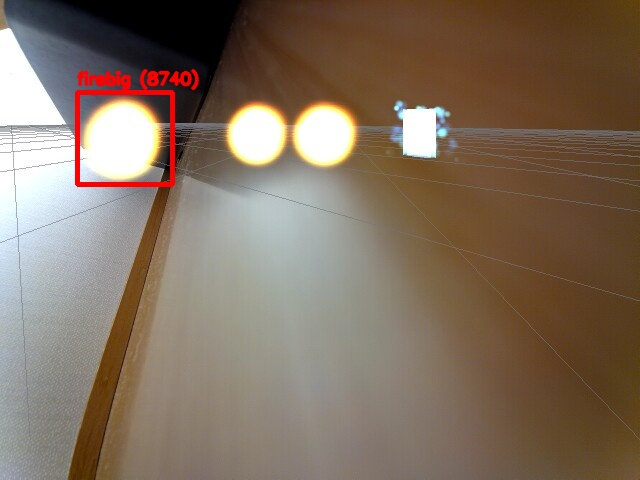firebig: (77, 92, 172, 184)
